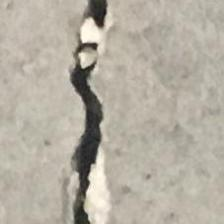Crack: (47, 0, 155, 224)
